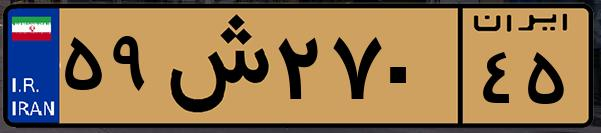0: (385, 28, 445, 110)
2: (270, 28, 330, 110)
4: (475, 38, 525, 113)
5: (57, 26, 110, 100), (525, 38, 570, 115)
7: (330, 28, 385, 110)
9: (110, 28, 158, 98)
ش: (158, 12, 270, 120)
